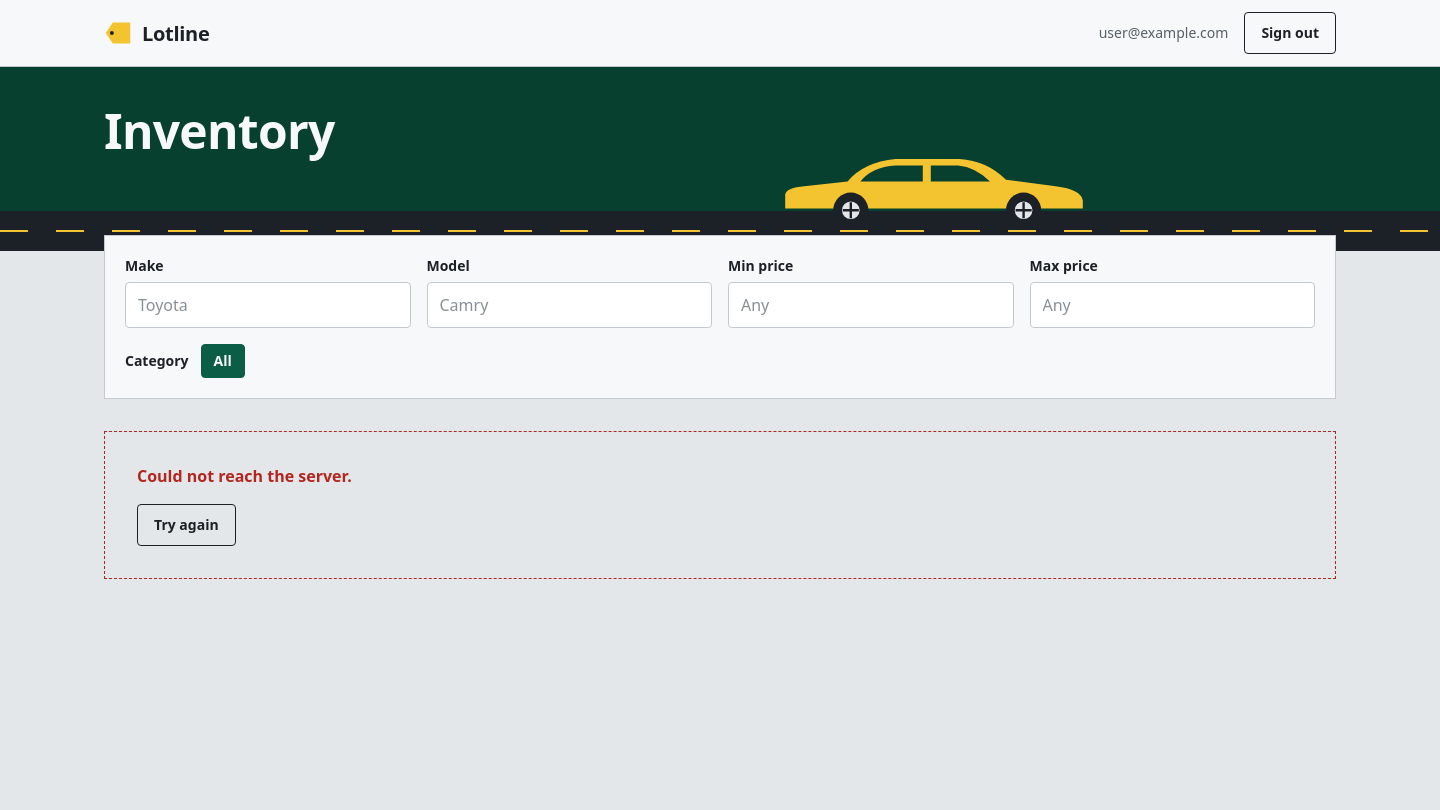
DashboardPage: browsing › explains a failed load and retries on request
Expected: the message reads "Could not reach the server.", 137,465 -> 352,487
Click the button "Try again" at [186, 525], box 137,504 -> 236,546
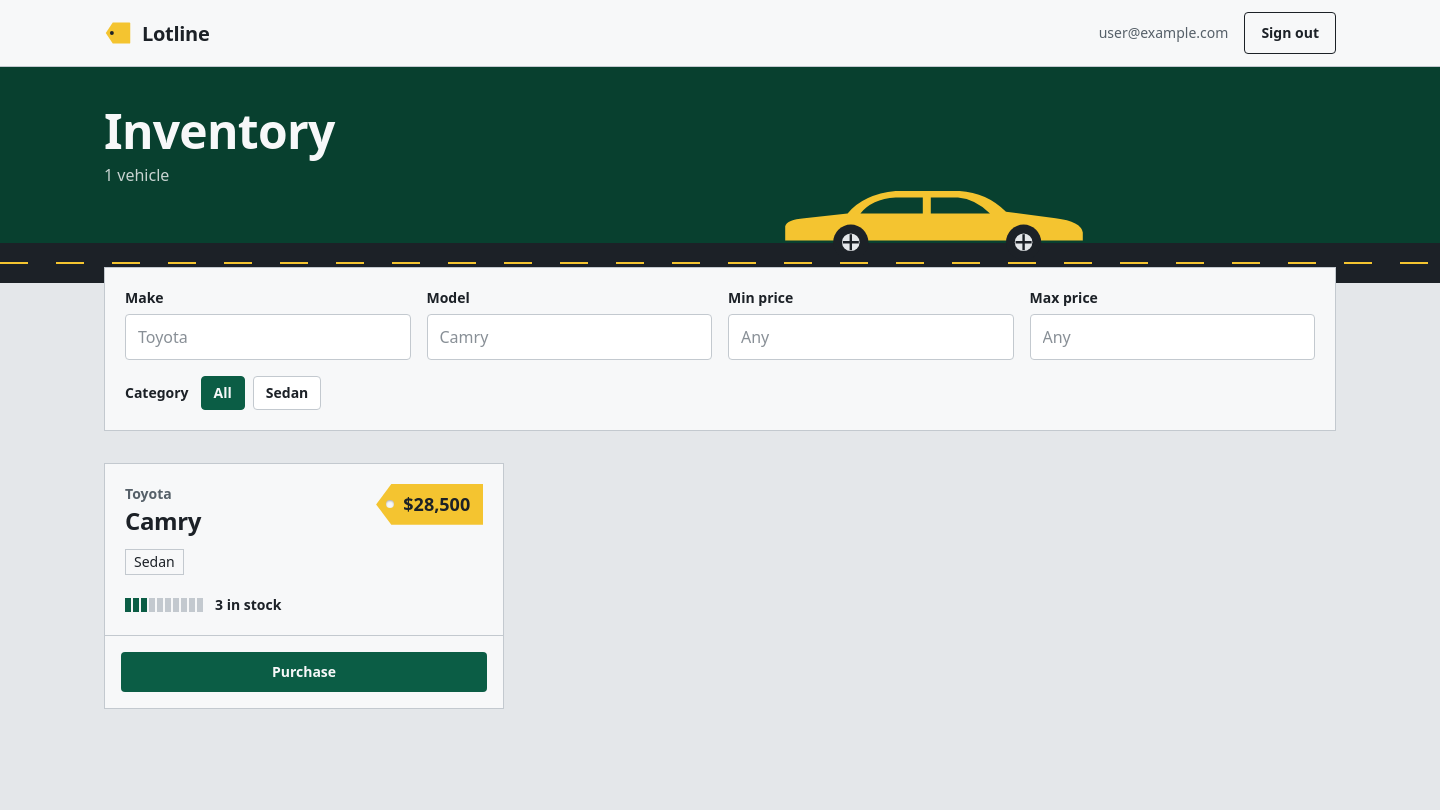
Now the text "1 vehicle" is shown, box 104,164 -> 169,186
